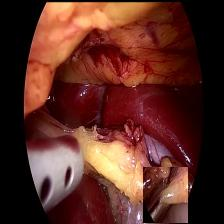Grasper: (142, 166, 187, 222)
Irrigator: (22, 136, 86, 210)
